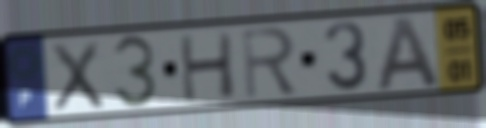3: (108, 32, 159, 112), (322, 20, 370, 95)
A: (373, 13, 444, 94)
H: (176, 29, 239, 104)
R: (239, 24, 300, 102)
X: (48, 38, 107, 114)
